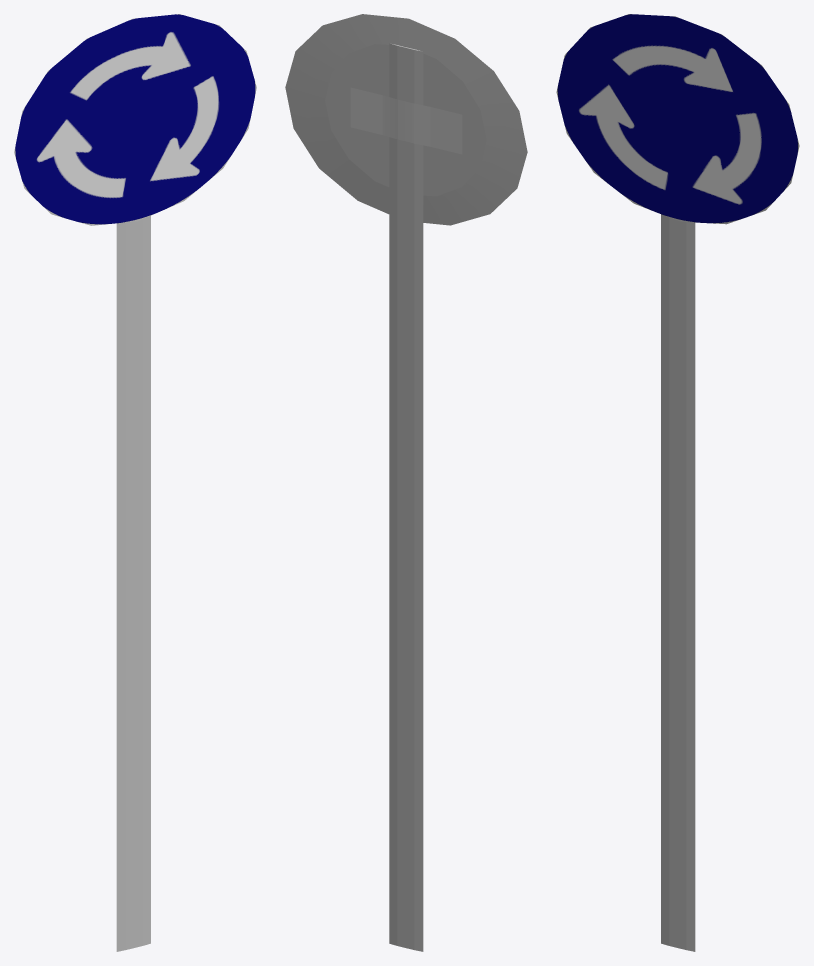
Rendered from kavsak.dae.
3 views of the same model, side by side, from view 1: azimuth 30°, elevation 25°; view 2: azimuth 150°, elevation 25°; view 3: azimuth 330°, elevation 25° (orthographic).
Visible parts, largest first — view 1: Sign_Circle.005; view 2: Sign_Circle.005; view 3: Sign_Circle.005.
Boxes of the visible parts, <box> form: Sign_Circle.005: <box>14,14,256,951</box>; Sign_Circle.005: <box>285,14,527,951</box>; Sign_Circle.005: <box>556,14,799,951</box>.
Size of the model in its own units: 0.6353 by 0.00621 by 2.33.
Materials: 3 (1 with a texture image).
